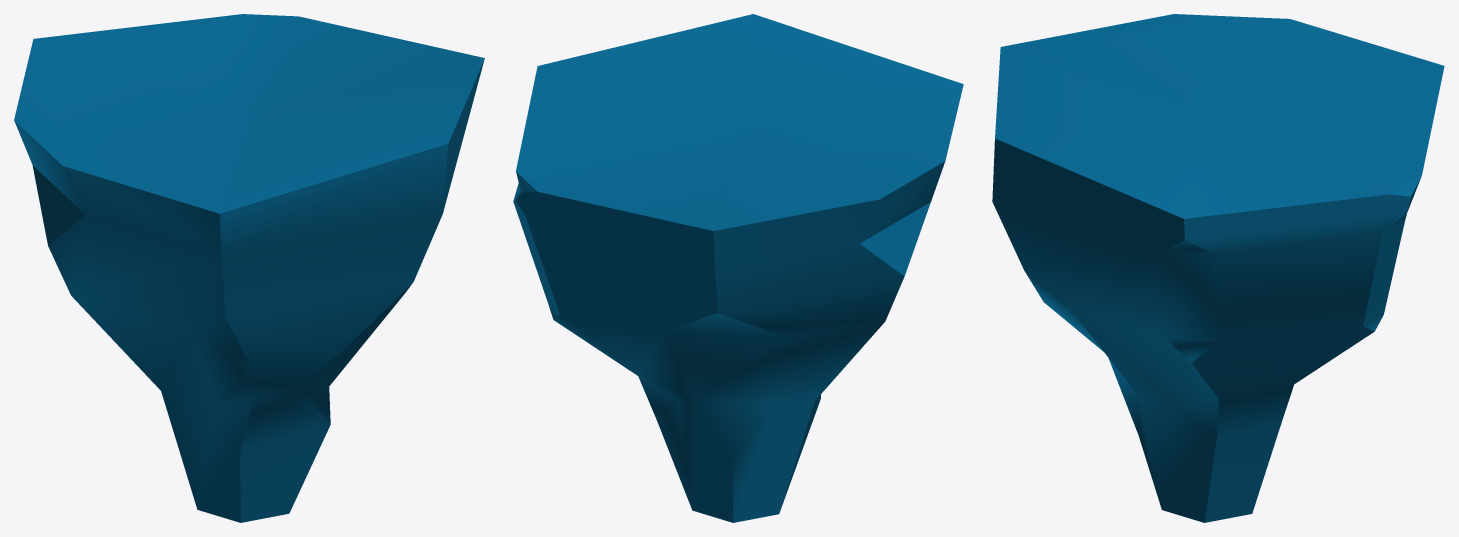
The model's file is Sky_Platform_1.fbx.
3 renders of one model, left to right at view 1: azimuth 30°, elevation 25°; view 2: azimuth 150°, elevation 25°; view 3: azimuth 270°, elevation 25°, orthographic. The views are drawn at different scales.
Parts seen in each view (by area): view 1: MESH_Sky_Platform_1; view 2: MESH_Sky_Platform_1; view 3: MESH_Sky_Platform_1.
Part boxes in pixels (x1,y1,x2,y2): MESH_Sky_Platform_1: (14, 14, 484, 522); MESH_Sky_Platform_1: (513, 14, 963, 522); MESH_Sky_Platform_1: (992, 14, 1444, 522).
Size of the model in its own units: 11.15 by 10.37 by 10.4.
